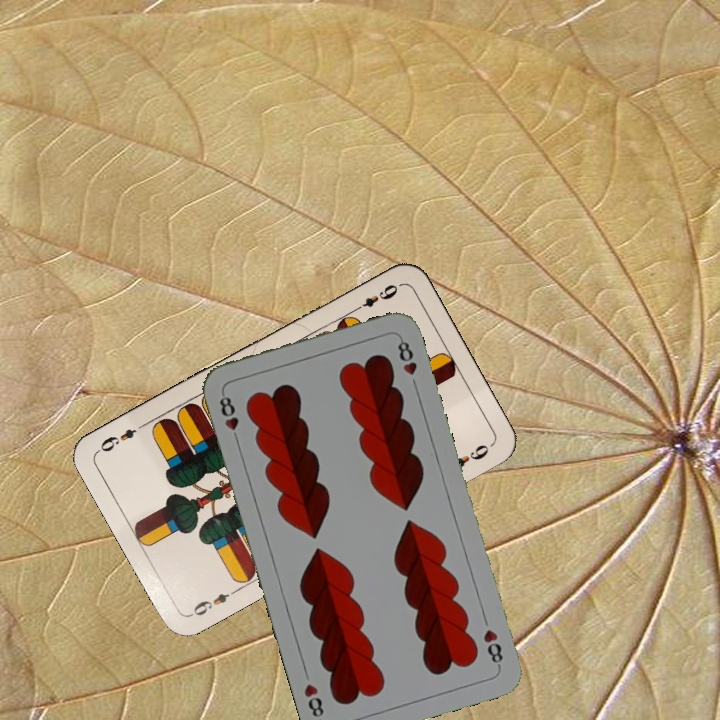E9: (186, 584, 241, 619), (349, 280, 403, 315)
H8: (215, 388, 242, 446), (479, 625, 506, 670)
